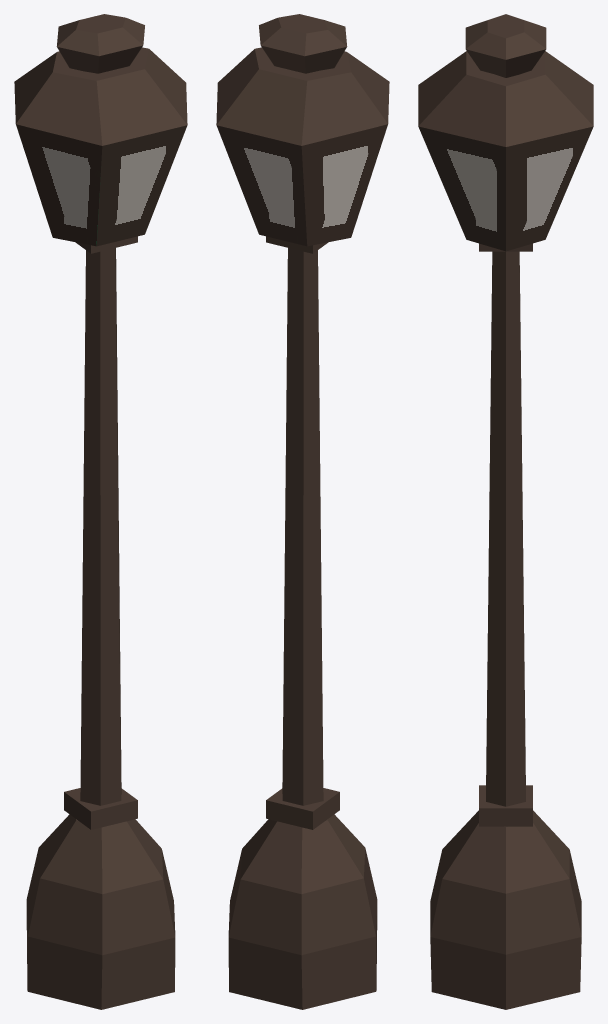
File: lamp_post.gltf
The picture shows the model from 3 angles, left to right: view 1: azimuth 30°, elevation 25°; view 2: azimuth 150°, elevation 25°; view 3: azimuth 270°, elevation 25°; orthographic projection.
Visible parts, largest first — view 1: cylinder (×6), cuboid; view 2: cylinder (×6), cuboid; view 3: cylinder (×6), cuboid.
Part boxes in pixels (bbox=[...]): cylinder (×6): bbox=[14, 14, 187, 1009]; cuboid: bbox=[64, 788, 137, 829]; cylinder (×6): bbox=[216, 14, 389, 1009]; cuboid: bbox=[266, 788, 339, 829]; cylinder (×6): bbox=[418, 14, 593, 1009]; cuboid: bbox=[479, 785, 532, 826].
Size of the model in its own units: 0.0909 by 0.4844 by 0.0812.
2 materials, 2 textured.
